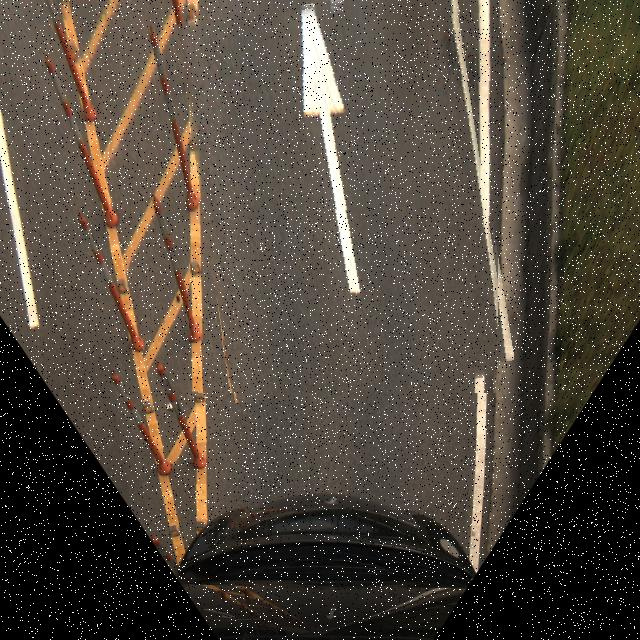forward: (189, 0, 500, 393)
